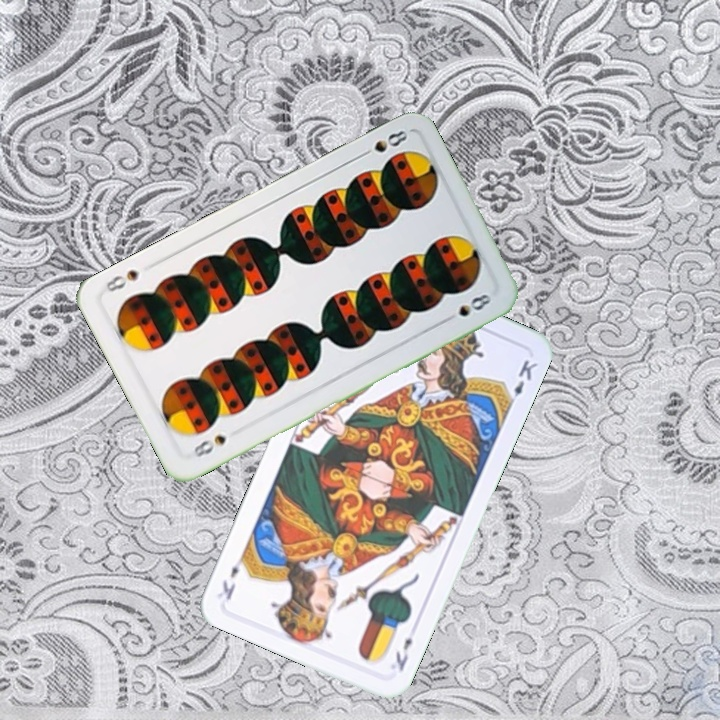EK: (391, 633, 415, 674)
S8: (355, 126, 411, 161), (189, 430, 229, 460)
